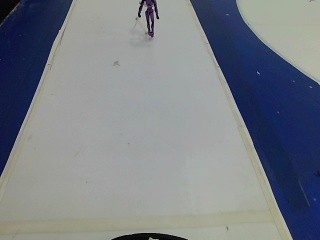pedestrian: (129, 0, 167, 41)
